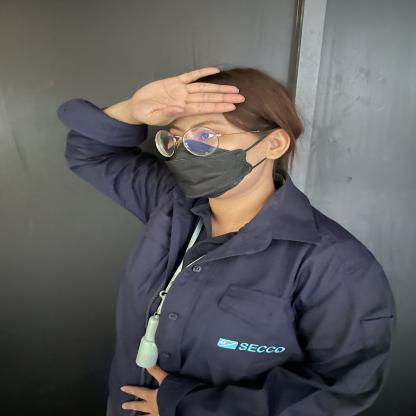Sick: (20, 38, 294, 147)
